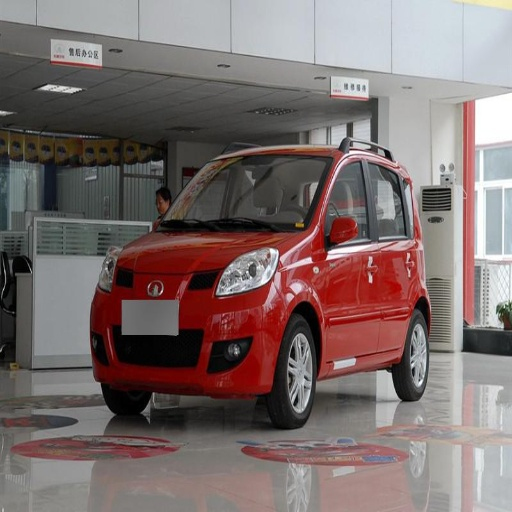back_left_door: (368, 154, 410, 350)
front_bumper: (97, 268, 288, 397)
front_glass: (161, 154, 329, 230)
front_left_door: (322, 154, 379, 357)
trunk: (411, 239, 441, 315)
